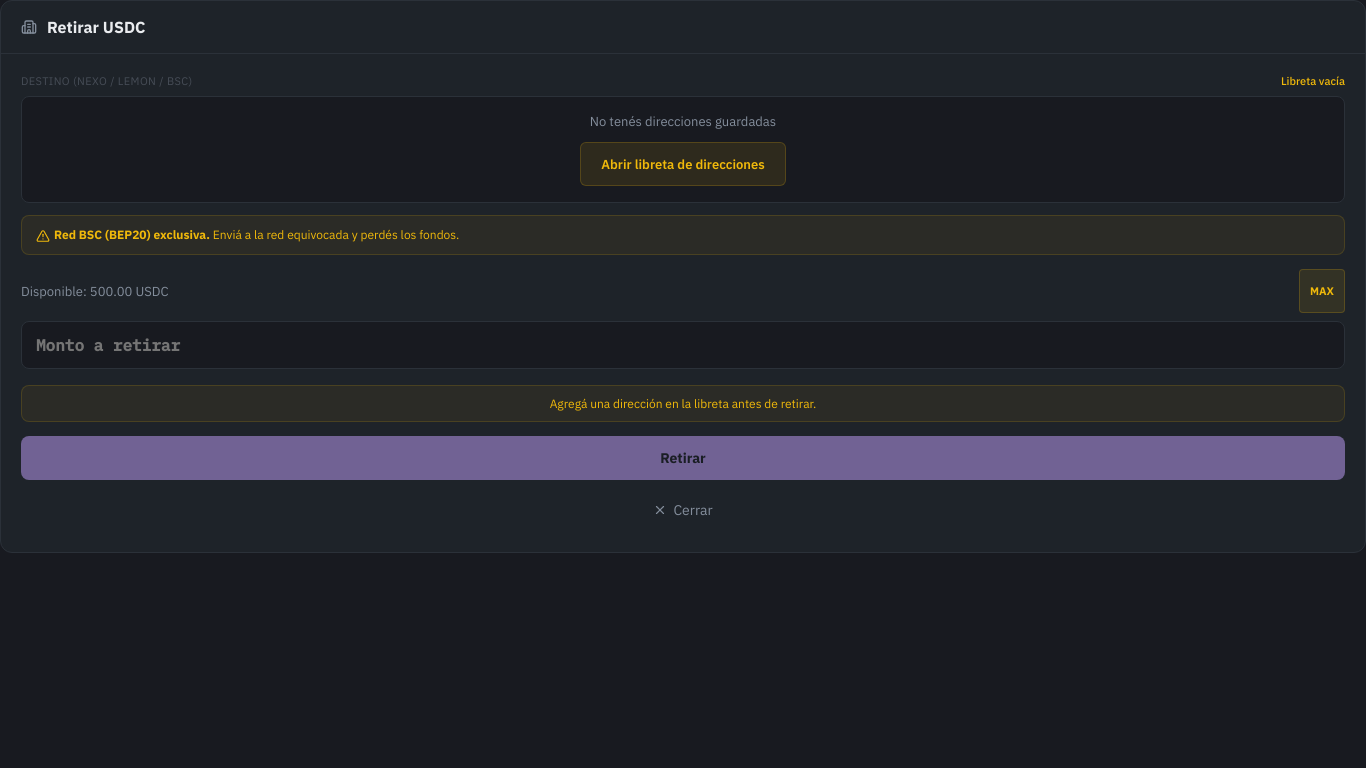
it: Withdraw Component › should enable MAX button and set amount to balance
Click the button "MAX".
click(1322, 291)  # box [1299, 269, 1345, 313]
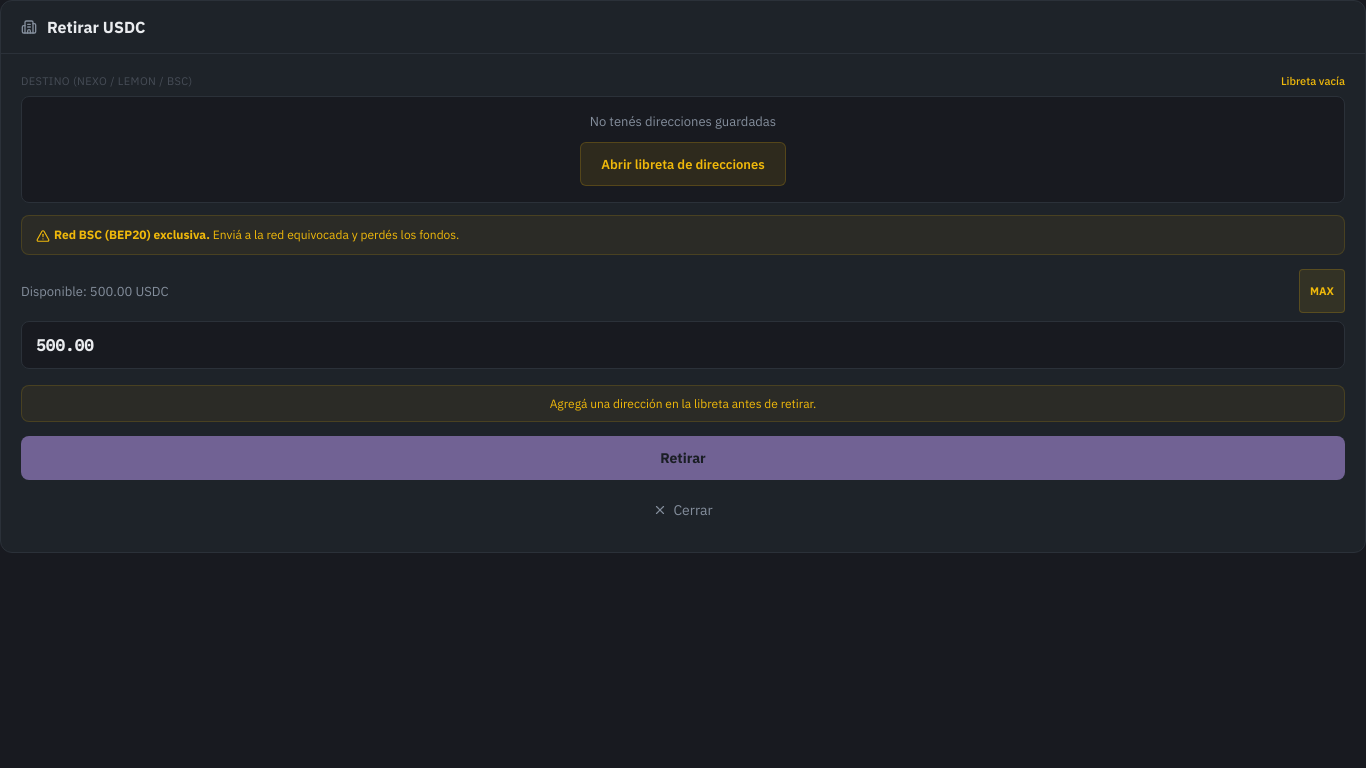
Expected: the number field with placeholder "Monto a retirar" holds "500", [21, 321, 1345, 369]
